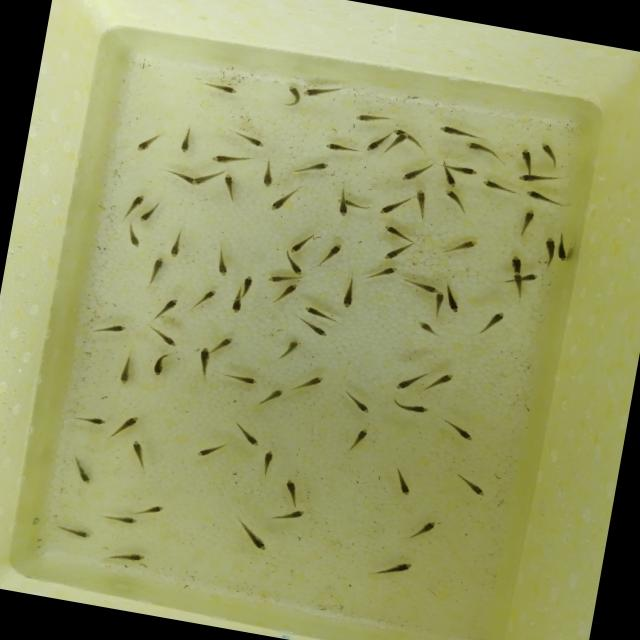fingerling: (228, 513, 274, 554), (514, 169, 568, 193), (369, 554, 414, 582), (520, 188, 574, 211), (65, 452, 98, 488), (438, 234, 480, 262), (300, 80, 344, 106), (193, 436, 233, 464), (424, 368, 461, 398), (460, 140, 508, 163), (268, 184, 302, 216), (404, 516, 440, 546), (106, 411, 140, 442), (378, 238, 418, 264), (276, 474, 306, 508), (475, 177, 519, 200), (290, 156, 330, 180), (272, 280, 302, 312), (440, 418, 478, 443), (452, 472, 488, 498), (408, 186, 434, 222), (229, 420, 262, 448), (104, 547, 148, 568), (266, 504, 308, 526), (377, 193, 411, 220), (436, 124, 486, 142), (345, 424, 372, 457), (112, 351, 136, 388), (290, 370, 326, 394), (362, 260, 398, 284), (194, 78, 242, 96), (192, 164, 224, 191), (398, 160, 431, 186), (480, 306, 508, 336), (392, 463, 416, 498), (353, 108, 395, 128), (188, 286, 216, 316), (208, 150, 250, 170), (255, 446, 278, 482), (253, 385, 286, 410), (515, 206, 538, 241), (52, 522, 92, 542), (100, 510, 140, 530), (126, 437, 150, 470), (536, 142, 564, 170), (152, 294, 182, 320), (400, 276, 439, 296), (230, 130, 267, 151), (144, 253, 166, 288), (394, 370, 426, 394), (341, 390, 373, 414), (338, 272, 358, 310), (67, 411, 109, 429), (254, 158, 279, 188), (553, 231, 575, 265), (192, 345, 212, 382), (130, 500, 167, 520), (442, 284, 465, 316), (118, 224, 145, 251), (133, 130, 161, 156), (120, 192, 144, 222), (148, 328, 182, 349), (295, 318, 329, 339), (389, 399, 430, 416), (218, 171, 240, 202), (138, 198, 162, 226), (388, 130, 410, 159), (168, 225, 186, 260), (282, 254, 308, 278), (276, 336, 300, 362), (440, 188, 467, 211), (148, 351, 170, 379), (539, 236, 558, 268), (289, 230, 312, 256), (321, 240, 344, 266), (161, 168, 194, 186), (322, 140, 359, 156), (300, 304, 337, 320), (220, 371, 259, 386), (362, 131, 386, 155), (445, 162, 481, 178), (176, 125, 194, 157), (414, 320, 444, 339), (210, 334, 234, 356), (382, 223, 413, 240), (95, 319, 126, 336), (282, 83, 302, 108), (226, 291, 246, 316), (517, 147, 536, 172), (335, 188, 351, 217), (440, 170, 463, 190), (214, 251, 231, 278), (506, 250, 526, 272), (432, 290, 446, 320), (240, 271, 256, 294), (264, 270, 288, 285), (509, 271, 524, 294), (522, 271, 540, 285)
